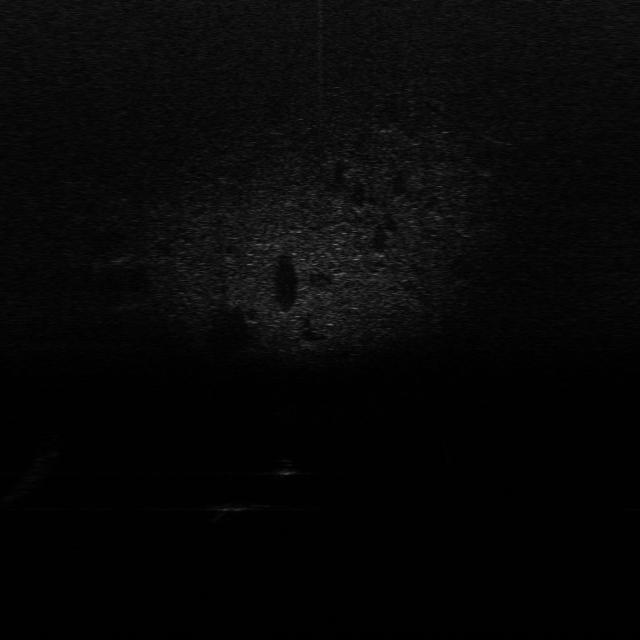ball: (276, 458, 296, 479)
square cage: (216, 498, 268, 520)
